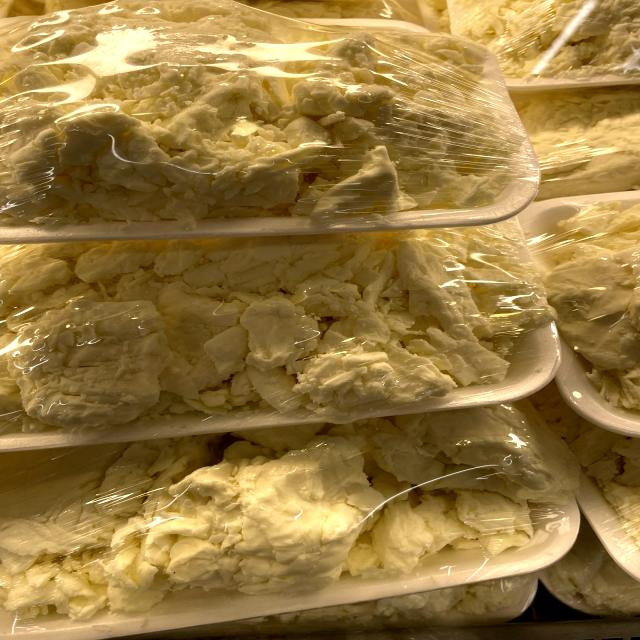cheese: (0, 412, 531, 634), (0, 215, 527, 424), (0, 17, 528, 225)
